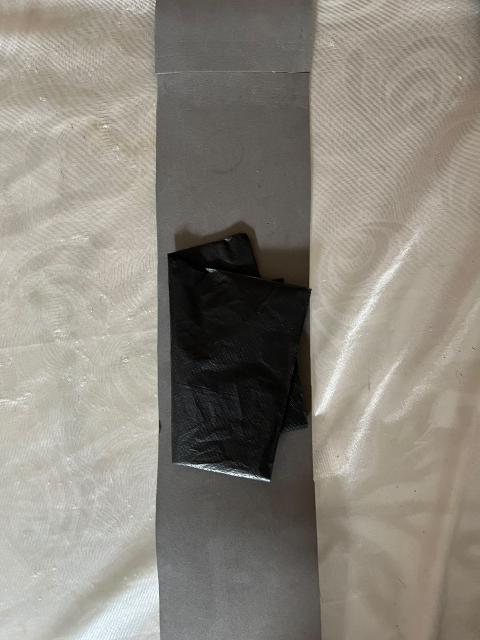LDPE: (91, 215, 395, 563)
